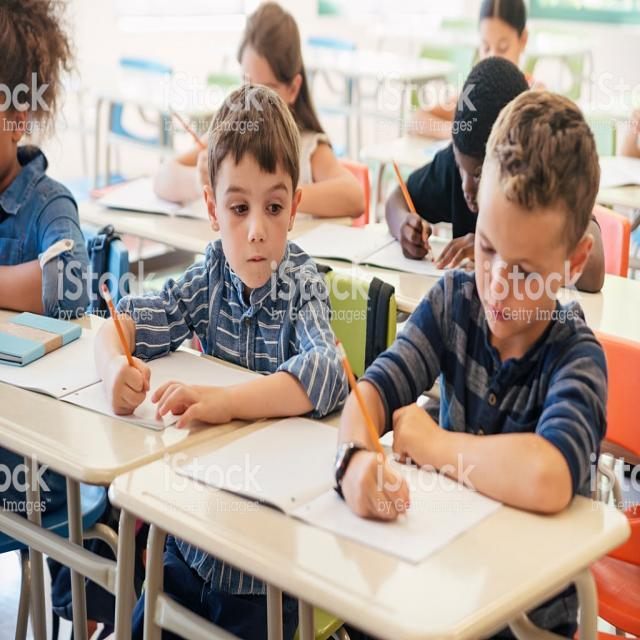cheating: (80, 72, 352, 441)
good: (310, 77, 630, 541)
